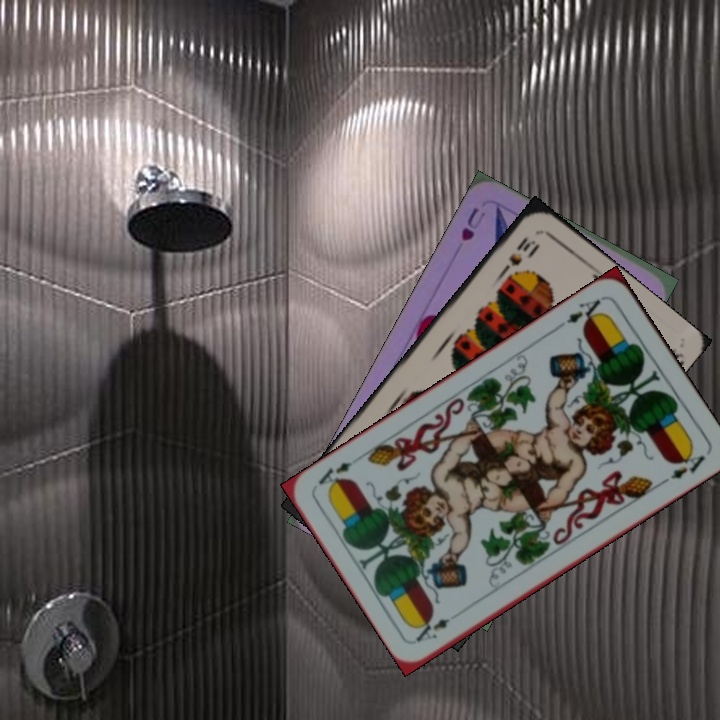EA: (562, 294, 606, 328), (411, 614, 452, 645)
HU: (457, 203, 488, 244)
S10: (496, 233, 540, 278)
